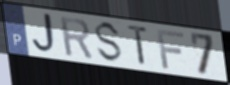7: (189, 30, 217, 77)
F: (156, 28, 187, 71)
J: (30, 12, 60, 56)
R: (57, 14, 95, 60)
S: (94, 21, 125, 65)
T: (126, 23, 150, 68)
